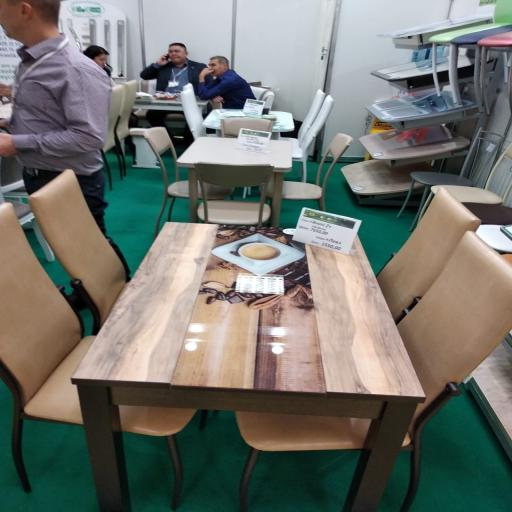bottle: (236, 232, 512, 512), (0, 204, 195, 508)
phone: (72, 223, 424, 512), (177, 138, 292, 226)
